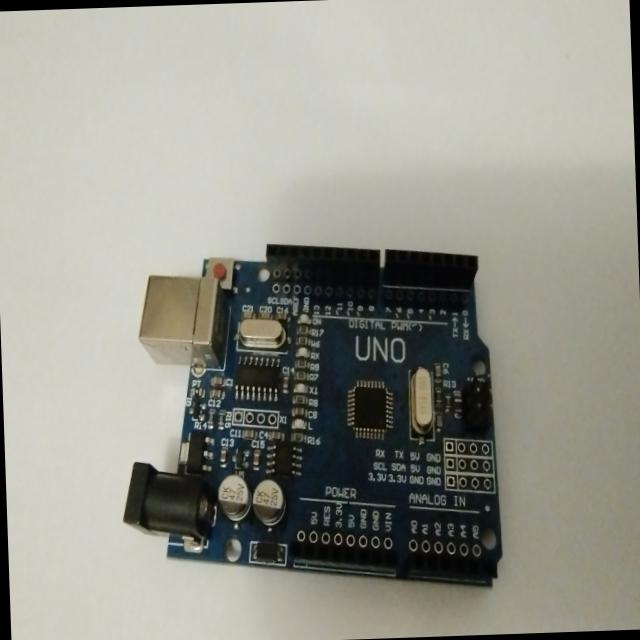arduino: (116, 232, 510, 606)
